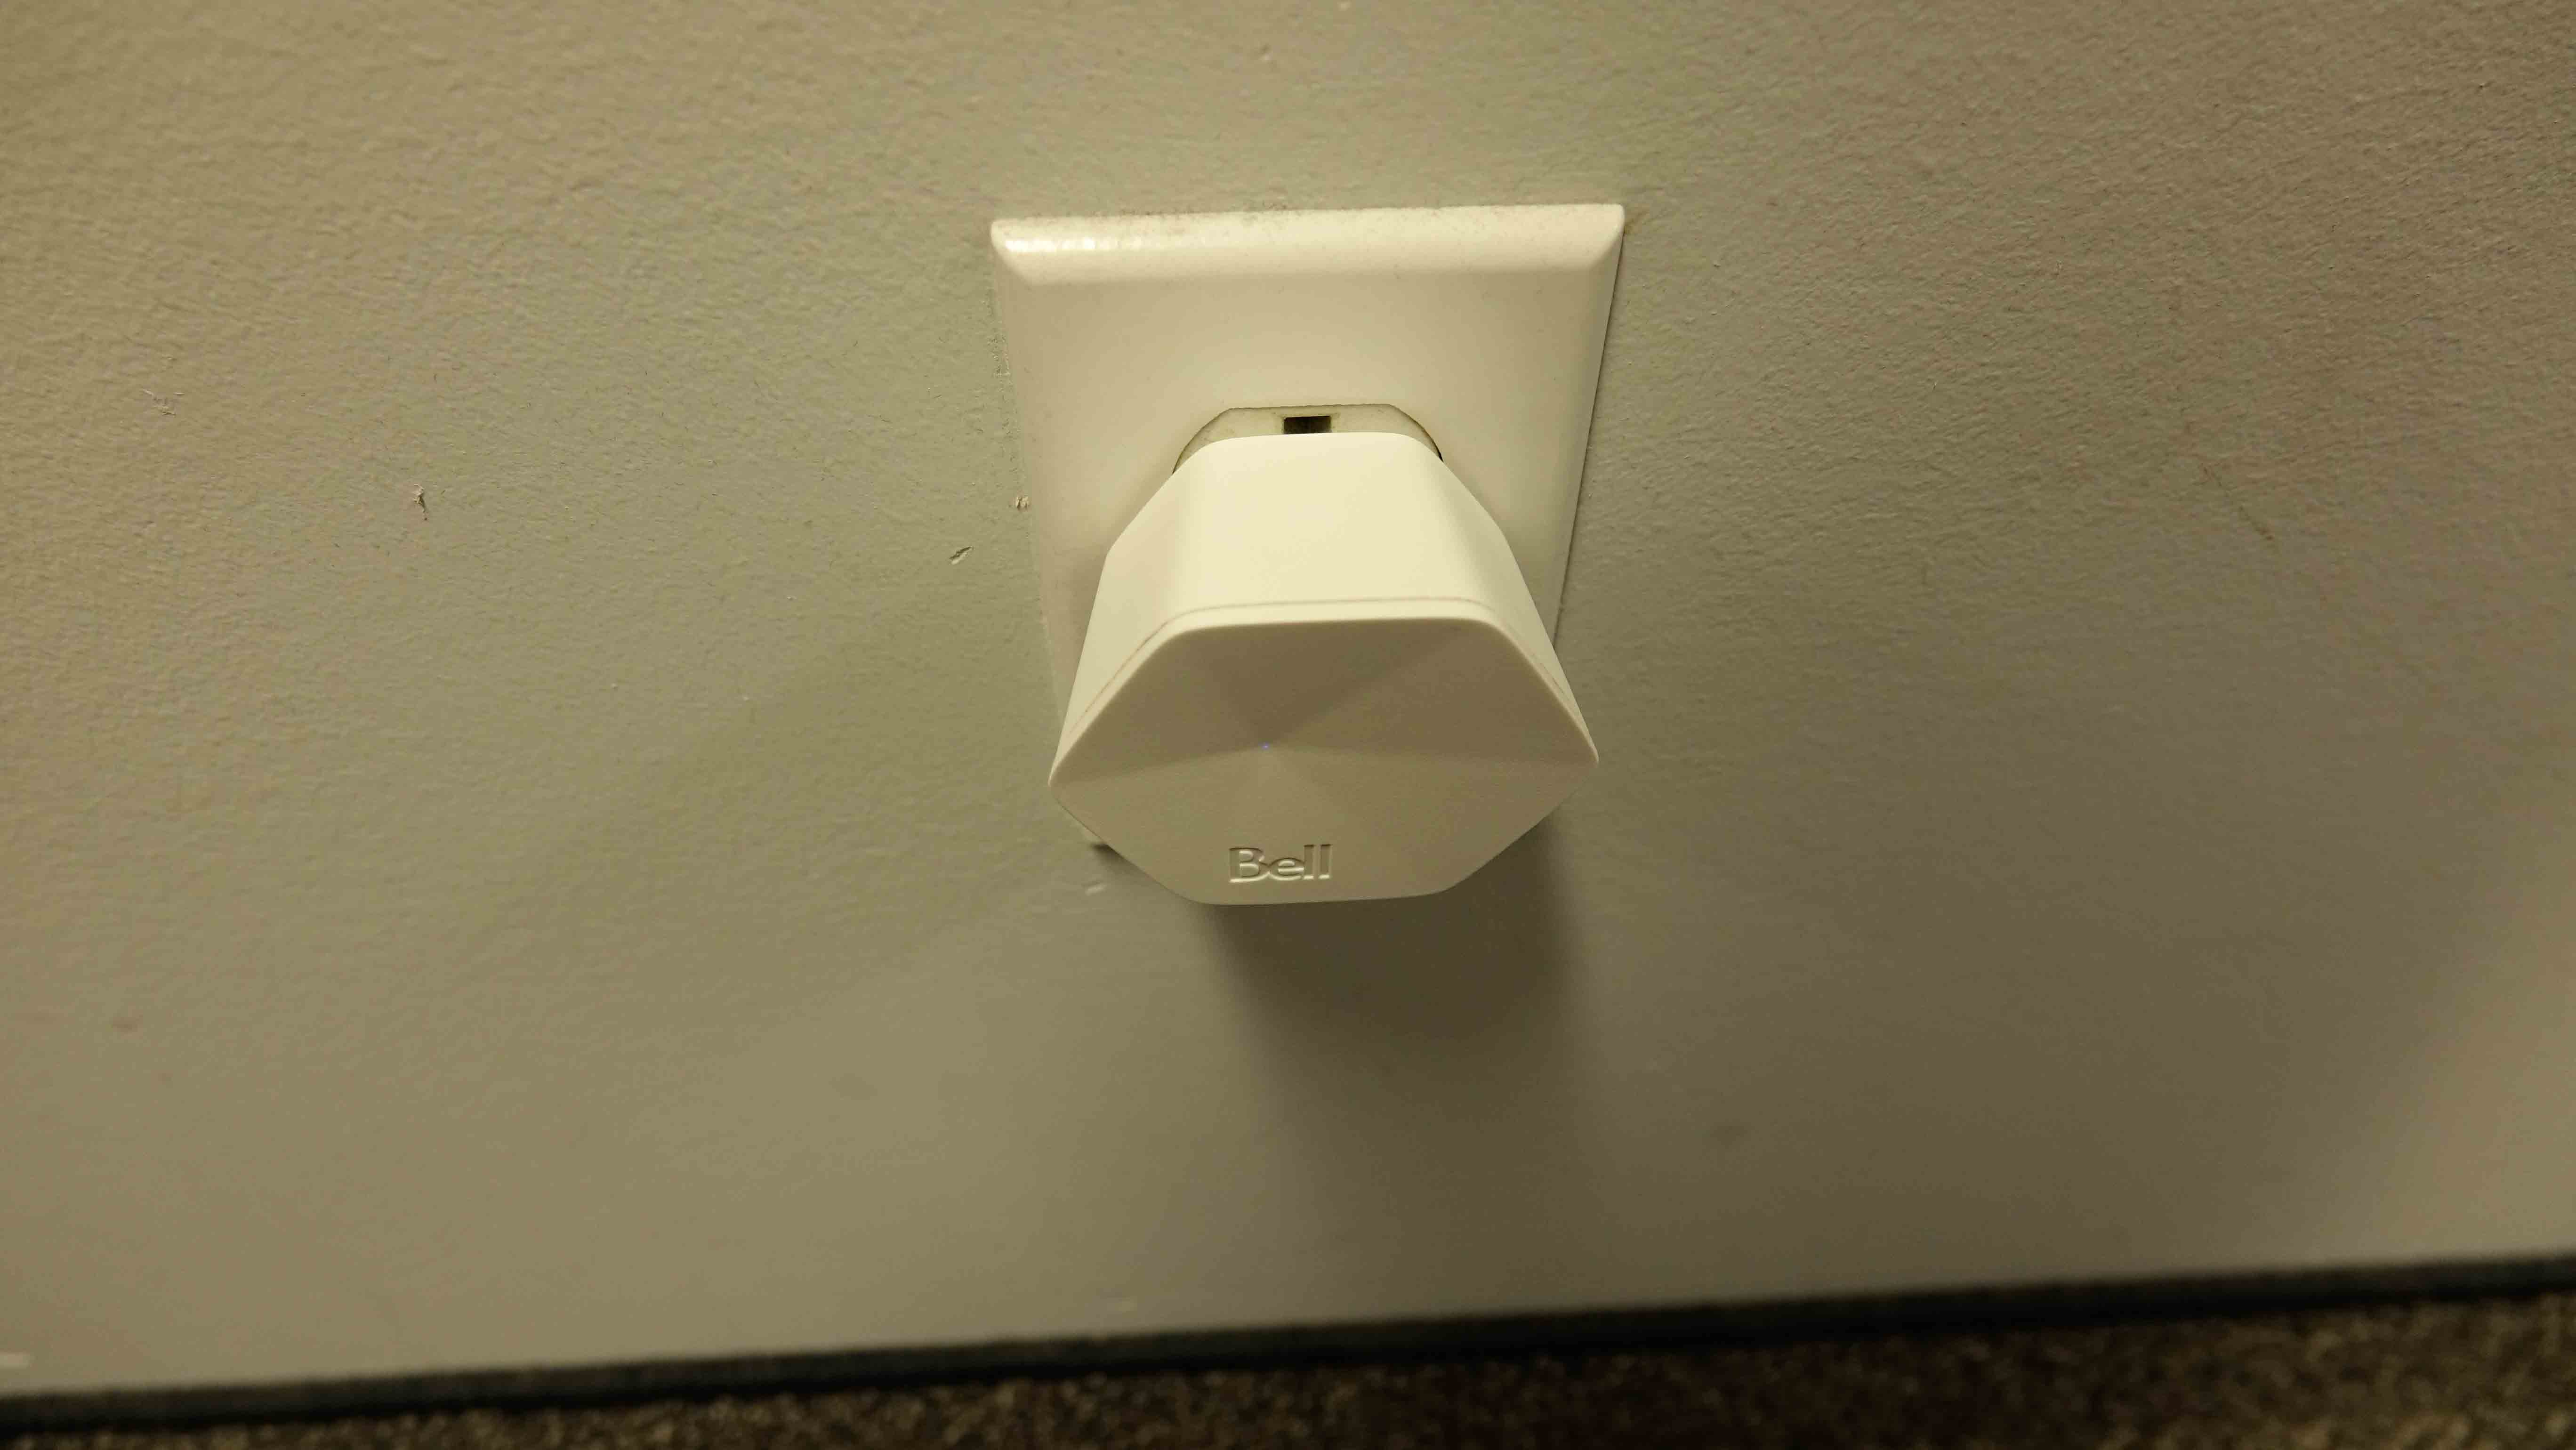pod: (1039, 423, 1619, 939)
